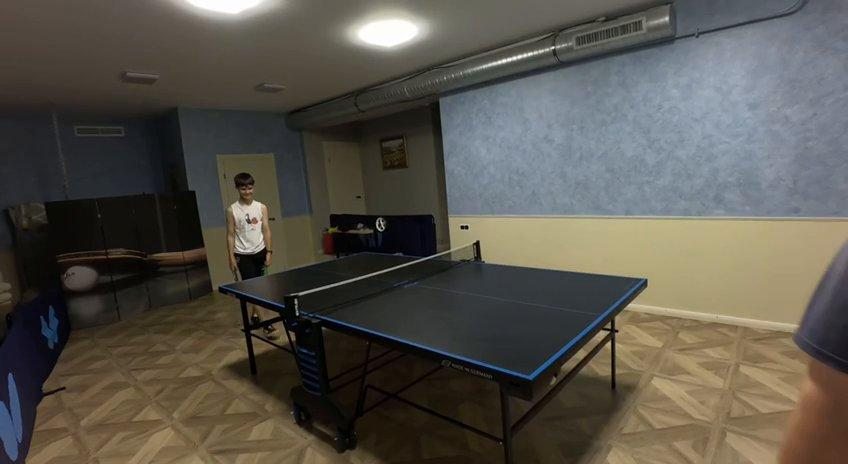Net: (284, 240, 483, 316)
Player1: (225, 172, 271, 280)
Player2: (778, 241, 847, 463)
Table: (220, 254, 646, 381)
